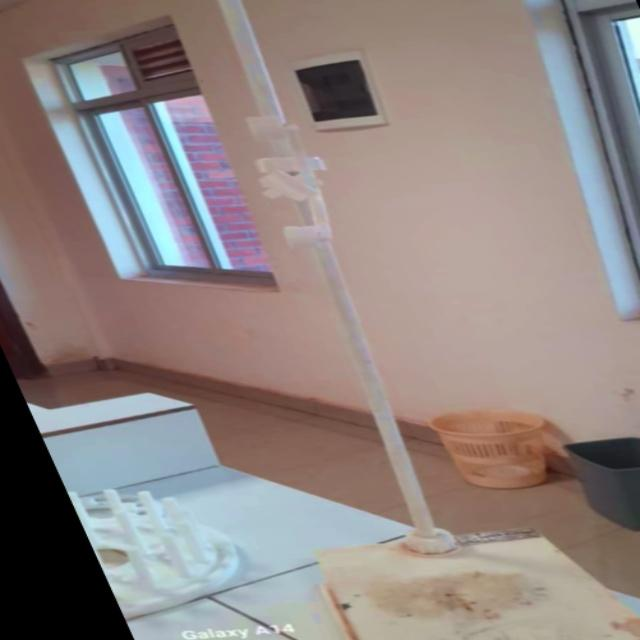Stand: (37, 0, 635, 640)
